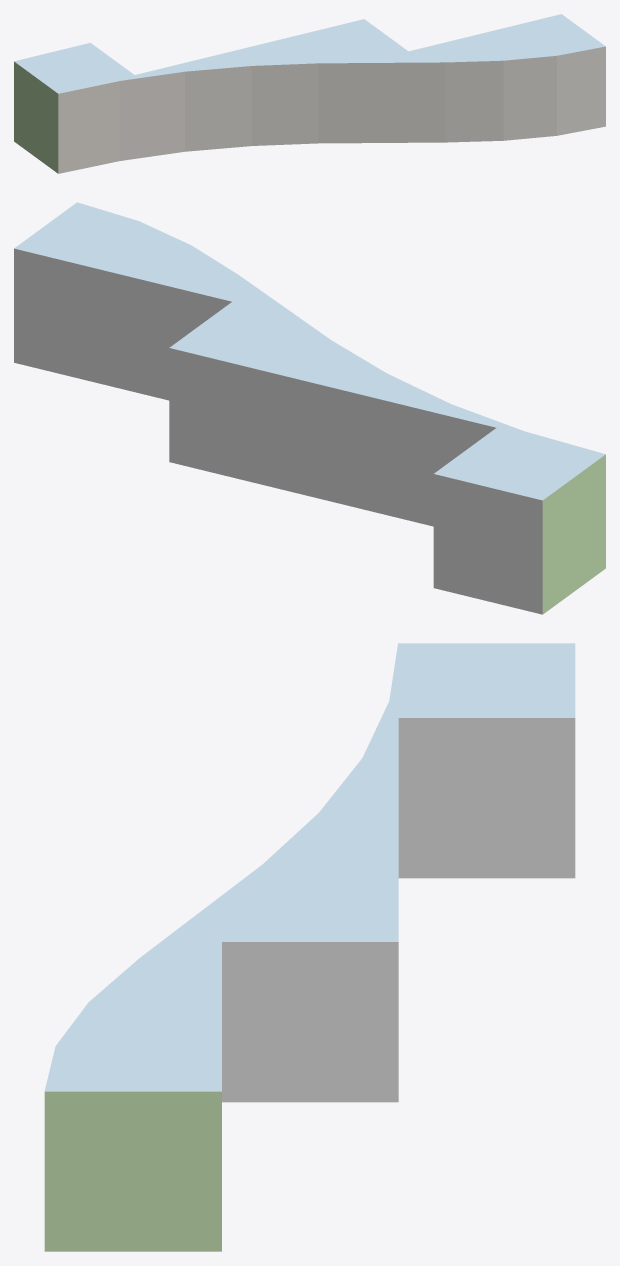
The model's file is Wall_Esse_4x6_Mid.fbx.
3 views of the same model, one above another, from view 1: azimuth 30°, elevation 25°; view 2: azimuth 150°, elevation 25°; view 3: azimuth 270°, elevation 25° (orthographic). The views are drawn at different scales.
Visible parts, largest first — view 1: Wall_Esse_4x6_Mid; view 2: Wall_Esse_4x6_Mid; view 3: Wall_Esse_4x6_Mid.
Boxes of the visible parts, x1,y1,x2,y2 form: Wall_Esse_4x6_Mid: [14, 14, 605, 173]; Wall_Esse_4x6_Mid: [14, 202, 605, 614]; Wall_Esse_4x6_Mid: [44, 643, 575, 1251].
Bounding box in the file's own units: 600 × 100 × 300.
